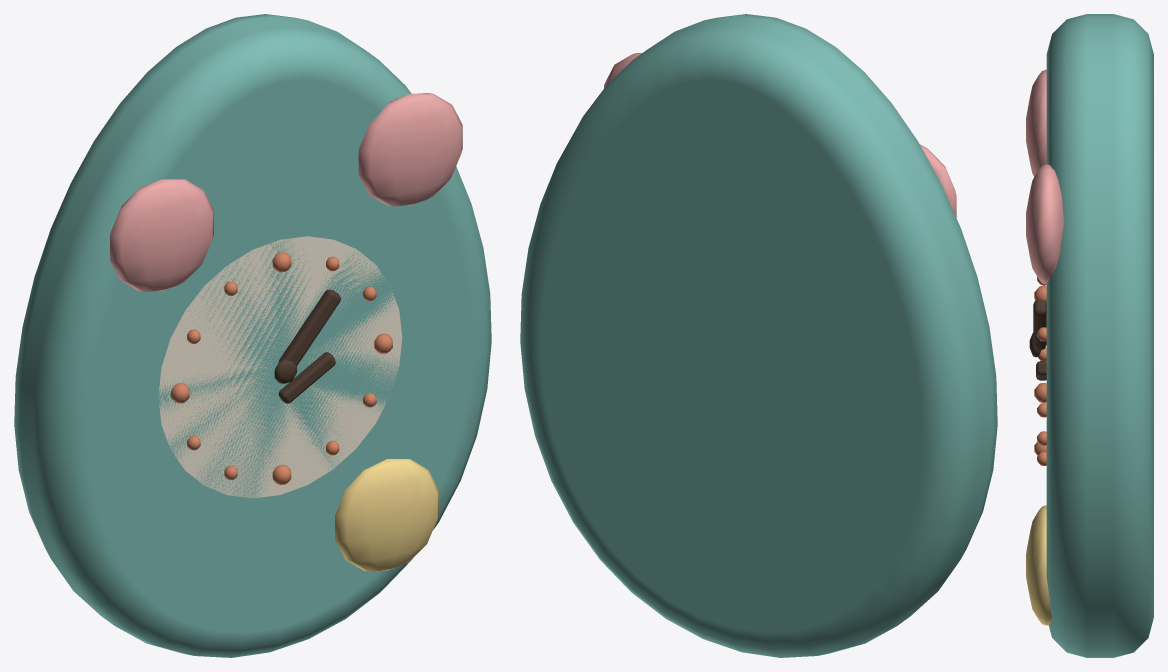
File: egg_wall_clock.glb
3 views of the same model, side by side, from view 1: azimuth 30°, elevation 25°; view 2: azimuth 150°, elevation 25°; view 3: azimuth 270°, elevation 25° (orthographic). The views are drawn at different scales.
Visible parts, largest first — view 1: egg_wall_clock_mesh; view 2: egg_wall_clock_mesh; view 3: egg_wall_clock_mesh.
Part boxes in pixels (x1=…): egg_wall_clock_mesh: x1=14, y1=14, x2=491, y2=657; egg_wall_clock_mesh: x1=520, y1=14, x2=997, y2=657; egg_wall_clock_mesh: x1=1026, y1=14, x2=1153, y2=657.
Size of the model in its own units: 0.3824 by 0.5 by 0.0954.
